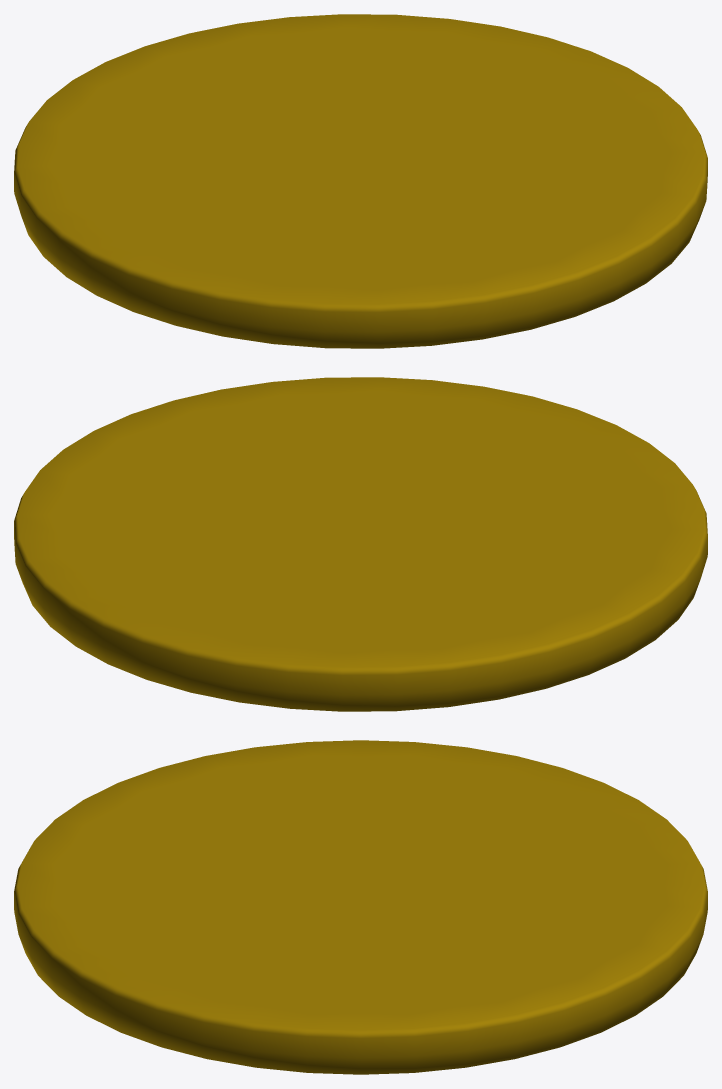
Rendered from Panfondo.fbx.
3 renders of one model, top to bottom at view 1: azimuth 30°, elevation 25°; view 2: azimuth 150°, elevation 25°; view 3: azimuth 270°, elevation 25°, orthographic.
Visible parts, largest first — view 1: polySurface61; view 2: polySurface61; view 3: polySurface61.
Boxes of the visible parts, left/top/right/bottom form: polySurface61: left=14, top=14, right=707, bottom=348; polySurface61: left=14, top=377, right=707, bottom=711; polySurface61: left=14, top=740, right=707, bottom=1074.
Bounding box in the file's own units: 5.05 × 0.4215 × 5.05.
